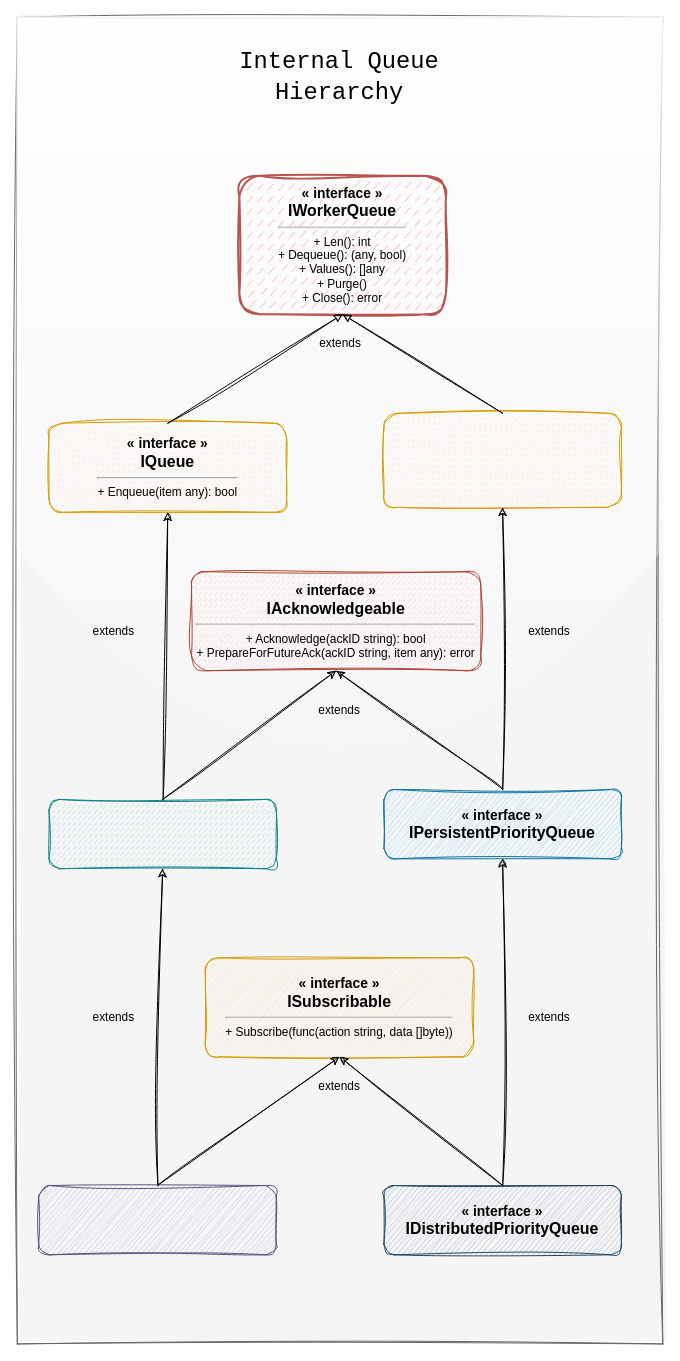
Image size: 680x1361. Some labels were removed from this diagram. The box of each missing label's shape, as (x1, y1, x2, y2) in pixels:
« interface » IDistributedQueue: (38, 1185, 276, 1255)
« interface » IPersistentQueue: (48, 798, 276, 869)
« interface » IPriorityQueue + Enqueue(item any, priority int): bool: (383, 412, 621, 507)
